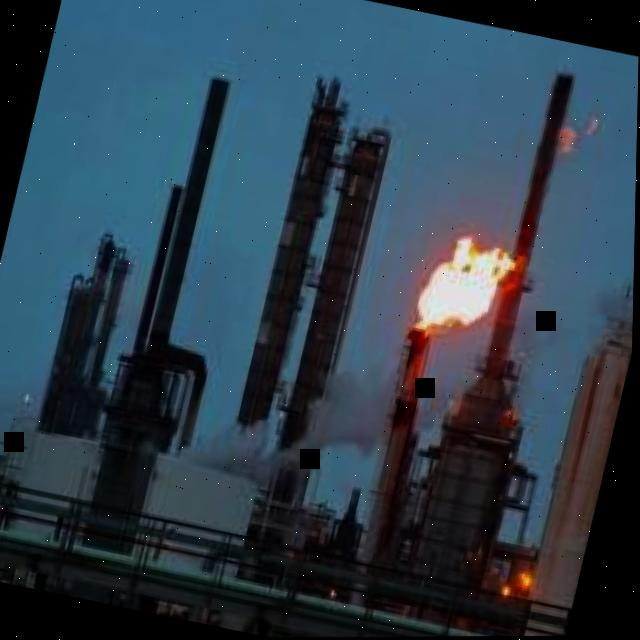fire: (413, 234, 519, 335), (557, 119, 581, 152)
smoke: (181, 365, 396, 487), (510, 263, 635, 469), (415, 317, 497, 432)
